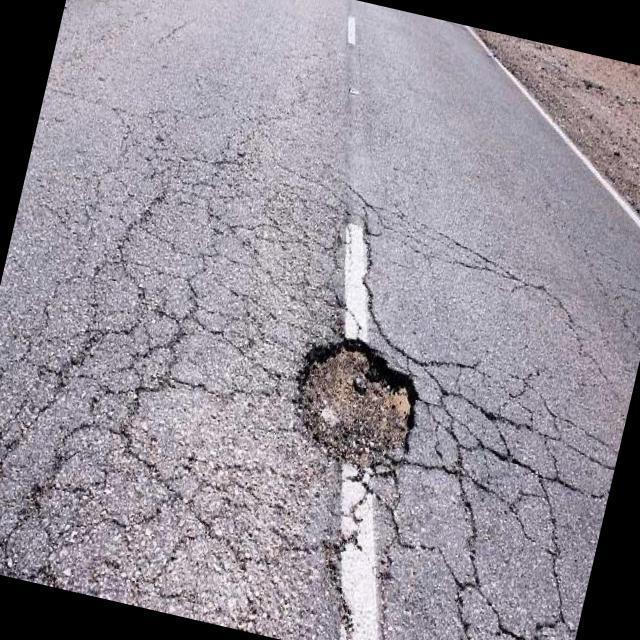Pothole: (295, 341, 416, 482)
